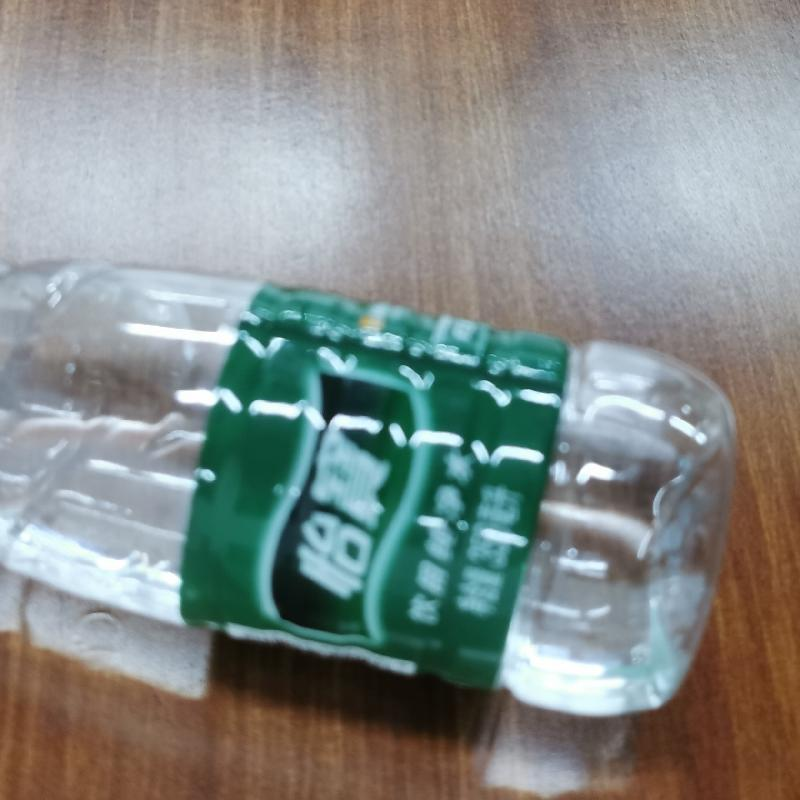bottles: (6, 253, 732, 717)
